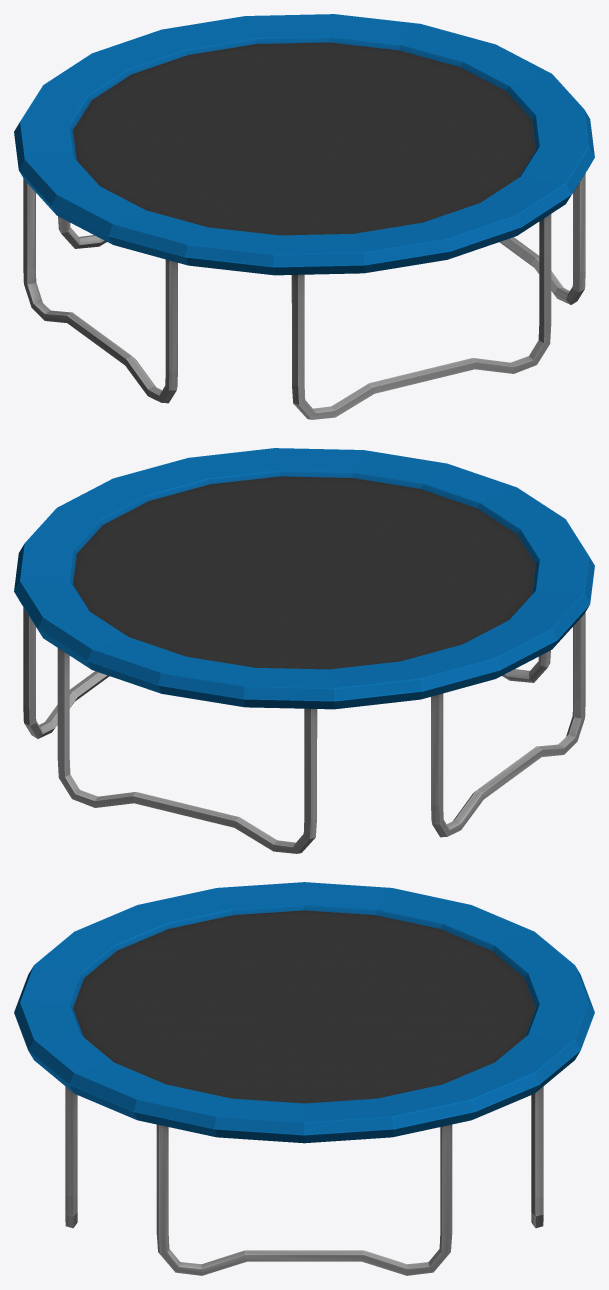
The model's file is Trampoline.obj.
3 renders of one model, top to bottom at view 1: azimuth 30°, elevation 25°; view 2: azimuth 150°, elevation 25°; view 3: azimuth 270°, elevation 25°, orthographic.
Visible parts, largest first — view 1: Trampoline_Mesh; view 2: Trampoline_Mesh; view 3: Trampoline_Mesh.
Boxes of the visible parts, x1,y1,x2,y2 form: Trampoline_Mesh: (14, 14, 594, 419); Trampoline_Mesh: (14, 448, 594, 853); Trampoline_Mesh: (14, 882, 594, 1275).
Bounding box in the file's own units: 10.76 × 3.57 × 10.76.
